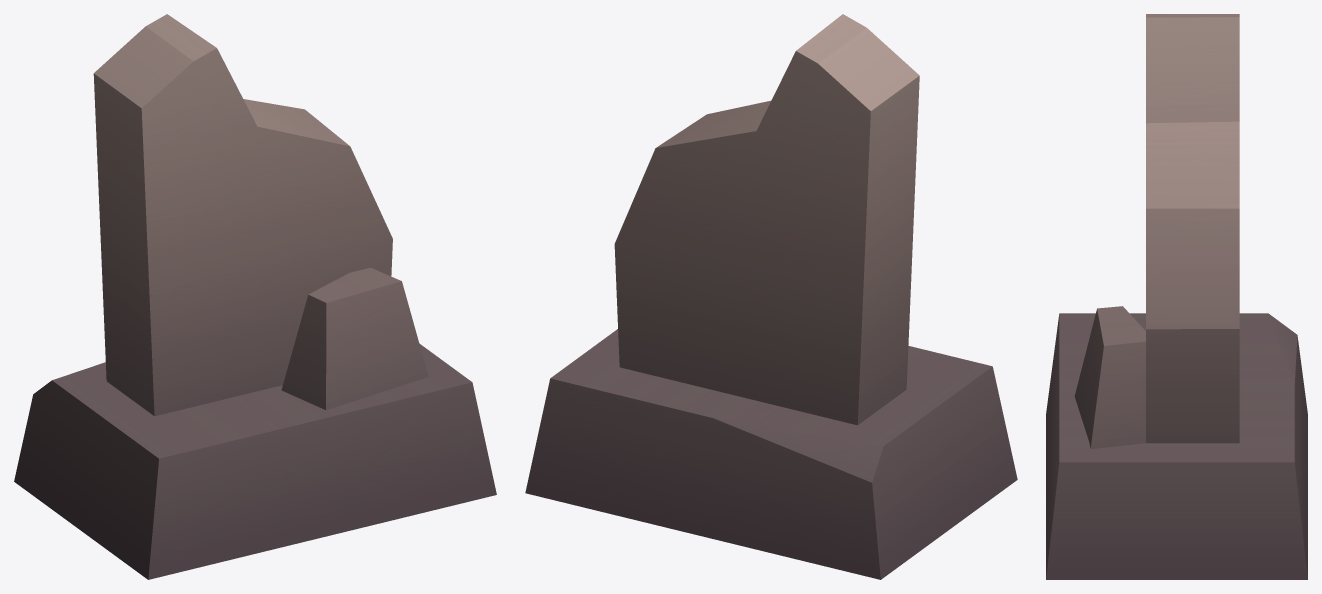
File: tombstone9.glb
3 renders of one model, left to right at view 1: azimuth 30°, elevation 25°; view 2: azimuth 150°, elevation 25°; view 3: azimuth 270°, elevation 25°, orthographic. The views are drawn at different scales.
Visible parts, largest first — view 1: tombstone9; view 2: tombstone9; view 3: tombstone9.
Part boxes in pixels (left/top/right/bottom): tombstone9: left=14, top=14, right=496, bottom=579; tombstone9: left=525, top=14, right=1017, bottom=579; tombstone9: left=1046, top=14, right=1307, bottom=579.
Size of the model in its own units: 0.6266 by 0.7986 by 0.4178.
1 material, 1 textured.
